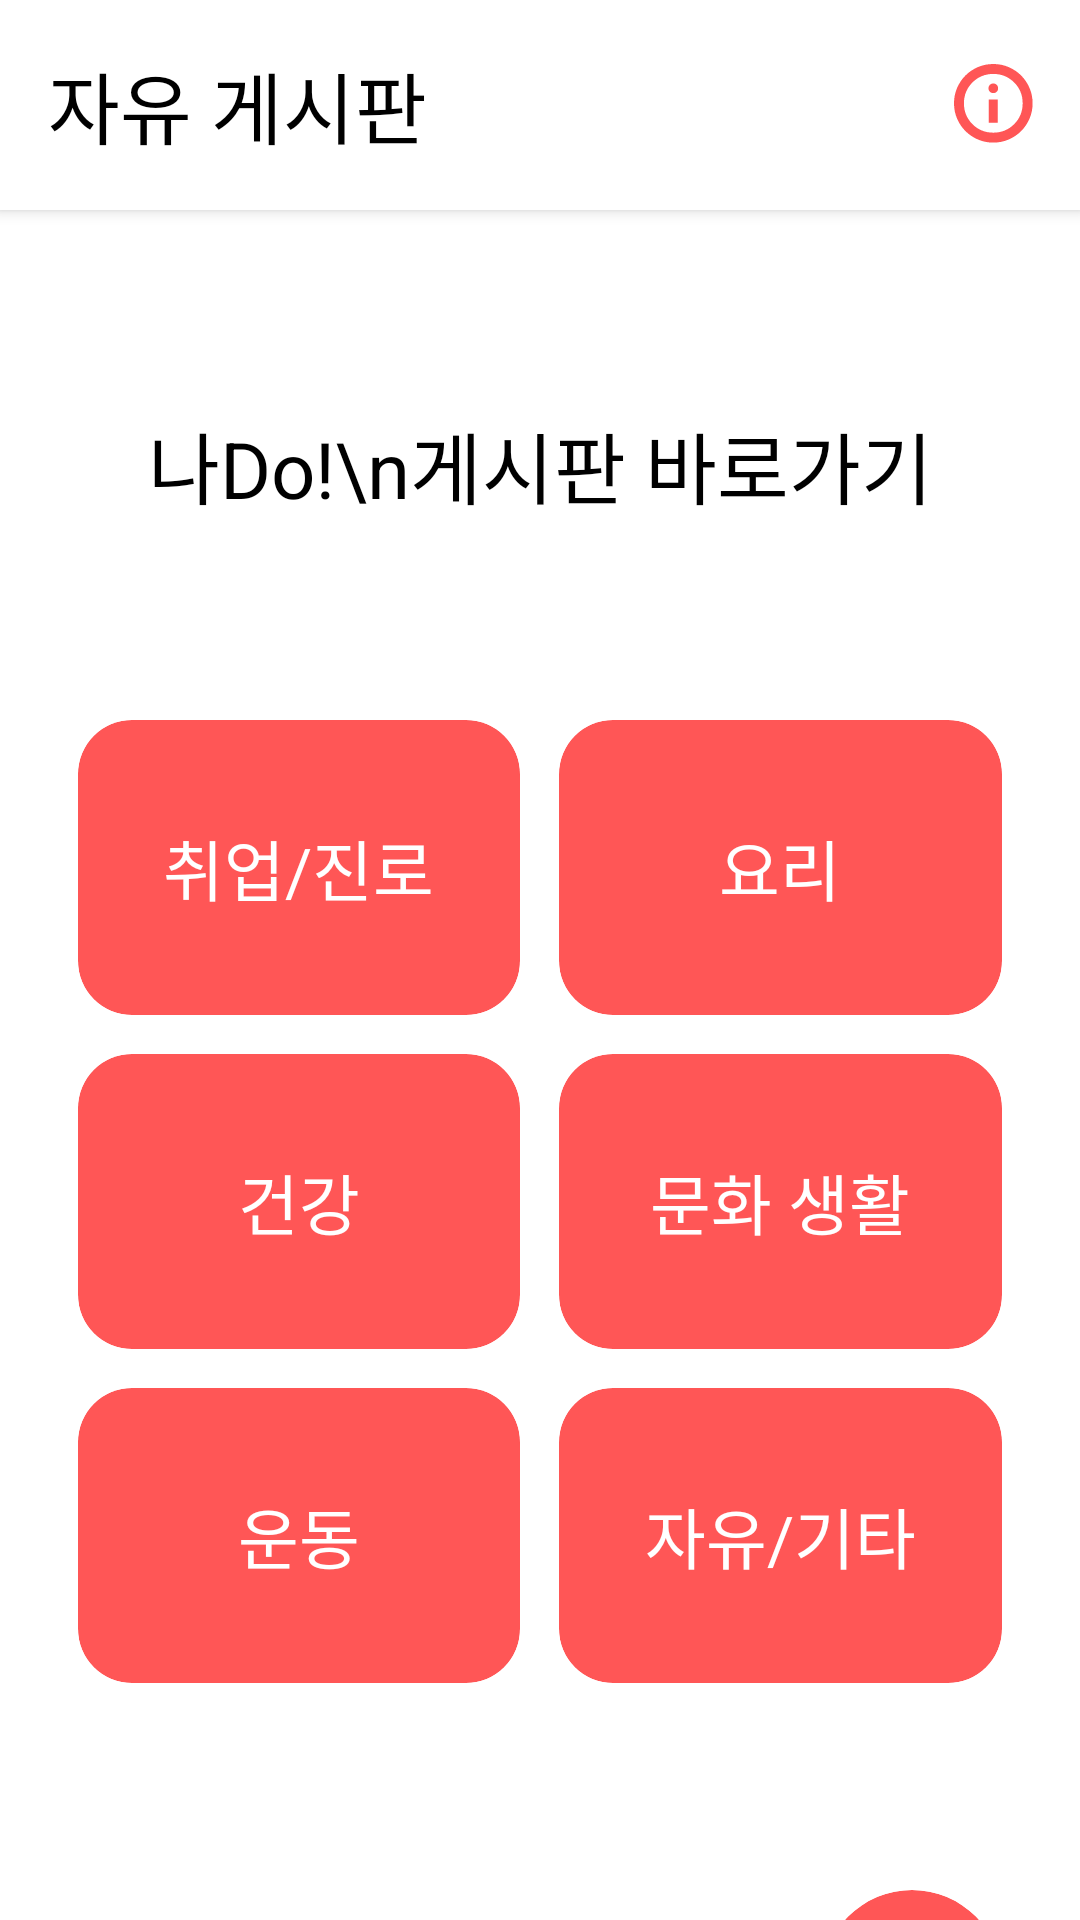

Icons on this 1080 × 1920 Android screen, each with the point to tap as [x,y]:
info: [993,103]
